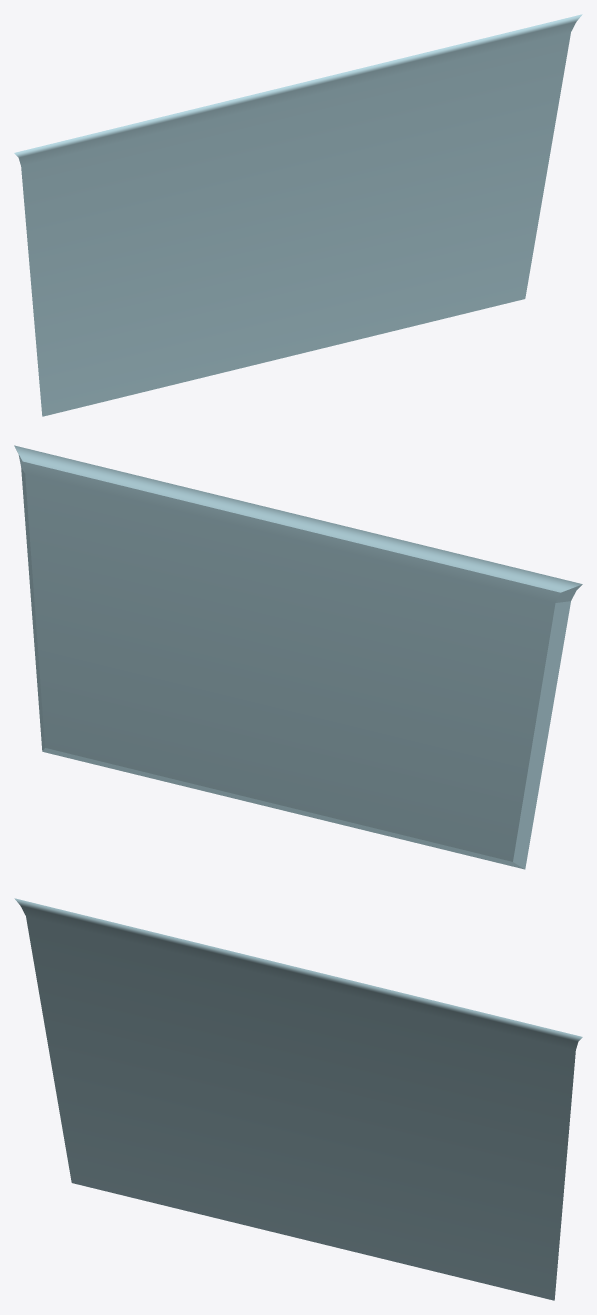
File: watertank-door.fbx
3 renders of one model, top to bottom at view 1: azimuth 30°, elevation 25°; view 2: azimuth 150°, elevation 25°; view 3: azimuth 330°, elevation 25°, orthographic.
Parts seen in each view (by area): view 1: 분리된 수조벽; view 2: 분리된 수조벽; view 3: 분리된 수조벽.
Boxes of the visible parts, bbox=[...] form: 분리된 수조벽: bbox=[14, 14, 582, 416]; 분리된 수조벽: bbox=[14, 445, 582, 869]; 분리된 수조벽: bbox=[14, 898, 582, 1300].
Size of the model in its own units: 9.38 by 4.49 by 0.5551.
